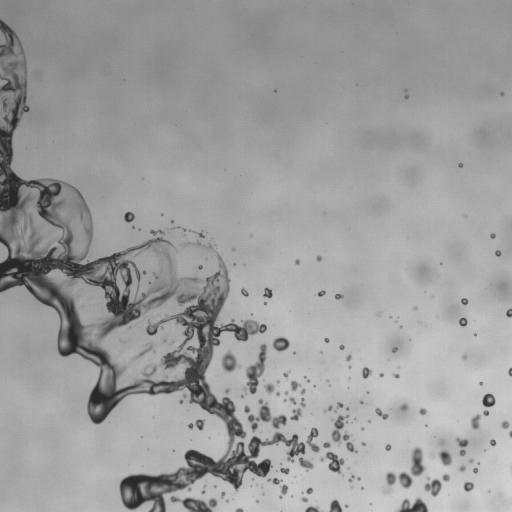droplet: (221, 349, 242, 373), (423, 475, 442, 497), (455, 436, 469, 456), (272, 336, 289, 352), (262, 383, 281, 396), (438, 449, 452, 466), (187, 419, 205, 430), (470, 413, 481, 430), (482, 393, 495, 407), (124, 211, 135, 222), (290, 380, 301, 391), (18, 113, 29, 124), (10, 132, 21, 143), (8, 161, 19, 172), (16, 168, 27, 179), (490, 238, 501, 249), (173, 253, 184, 264), (175, 267, 186, 278), (228, 287, 239, 298), (458, 305, 469, 316), (220, 330, 231, 341), (262, 332, 273, 343), (211, 346, 222, 357), (265, 346, 276, 357), (202, 369, 213, 380), (263, 393, 274, 404), (246, 394, 257, 405), (407, 404, 418, 415), (197, 408, 208, 419), (233, 408, 244, 419), (208, 413, 219, 424), (215, 418, 226, 429), (258, 420, 269, 431), (280, 425, 291, 436), (462, 427, 473, 438), (277, 442, 288, 453), (448, 445, 459, 456), (335, 446, 346, 457), (302, 448, 313, 459), (288, 460, 299, 471), (401, 462, 412, 473), (164, 463, 175, 474), (435, 463, 446, 474), (445, 463, 456, 474), (147, 465, 158, 476), (242, 469, 253, 480), (462, 470, 473, 481), (411, 474, 422, 485), (176, 488, 187, 499), (189, 488, 200, 499), (421, 492, 432, 503), (362, 366, 372, 378), (283, 396, 296, 405), (262, 287, 272, 298), (463, 481, 474, 491), (441, 472, 450, 482), (319, 503, 330, 511), (500, 420, 509, 429), (53, 172, 62, 181), (189, 245, 198, 254), (85, 253, 94, 262), (324, 291, 333, 300), (213, 318, 222, 327), (329, 339, 338, 348), (249, 355, 258, 364), (255, 383, 264, 392), (82, 388, 91, 397), (291, 389, 300, 398), (250, 407, 259, 416), (108, 408, 117, 417), (269, 408, 278, 417), (478, 415, 487, 424), (241, 421, 250, 430), (277, 424, 286, 433), (297, 433, 306, 442), (197, 445, 206, 454), (318, 446, 327, 455), (253, 455, 262, 464), (458, 455, 467, 464), (441, 464, 450, 473), (131, 466, 140, 475), (266, 469, 275, 478), (203, 471, 212, 480), (254, 474, 263, 483), (194, 477, 203, 486), (392, 479, 401, 488), (223, 481, 232, 490), (252, 487, 261, 496), (161, 492, 170, 501), (200, 493, 209, 502), (143, 499, 152, 508), (459, 316, 467, 326), (399, 403, 409, 411), (241, 286, 248, 297), (283, 370, 290, 381), (348, 472, 355, 483), (316, 290, 326, 297), (135, 505, 146, 511), (345, 352, 352, 361), (418, 408, 427, 415), (280, 467, 289, 474), (489, 438, 496, 446), (323, 441, 331, 448), (384, 443, 391, 451), (458, 464, 466, 471), (0, 32, 5, 43), (0, 209, 5, 220), (0, 251, 5, 262), (334, 293, 343, 299), (505, 308, 511, 317), (461, 298, 468, 305), (428, 452, 435, 459), (306, 487, 313, 494), (4, 18, 11, 25), (85, 199, 92, 206), (91, 227, 98, 234), (200, 237, 207, 244), (79, 258, 86, 265), (225, 263, 232, 270), (206, 269, 213, 276), (18, 284, 25, 291), (7, 286, 14, 293), (222, 299, 229, 306), (243, 313, 250, 320), (285, 346, 292, 353), (231, 349, 238, 356), (340, 349, 347, 356), (69, 352, 76, 359), (234, 356, 241, 363), (92, 365, 99, 372), (343, 368, 350, 375), (287, 373, 294, 380), (295, 376, 302, 383), (87, 383, 94, 390), (284, 383, 291, 390), (159, 392, 166, 399), (300, 407, 307, 414), (338, 408, 345, 415), (285, 410, 292, 417), (84, 416, 91, 423), (101, 418, 108, 425), (256, 419, 263, 426), (464, 419, 471, 426), (338, 427, 345, 434), (253, 430, 260, 437), (284, 432, 291, 439), (325, 435, 332, 442), (311, 437, 318, 444), (339, 439, 346, 446), (277, 440, 284, 447), (440, 444, 447, 451), (304, 445, 311, 452), (292, 454, 299, 461), (212, 455, 219, 462), (434, 455, 441, 462), (420, 458, 427, 465), (181, 461, 188, 468), (466, 463, 473, 470), (393, 469, 400, 476), (276, 471, 283, 478), (410, 474, 417, 481), (380, 476, 387, 483), (113, 480, 120, 487), (274, 484, 281, 491), (213, 493, 220, 500), (215, 496, 222, 503), (408, 498, 415, 505), (302, 501, 309, 508), (394, 501, 401, 508), (391, 372, 399, 378), (300, 496, 308, 502), (210, 506, 219, 511), (494, 250, 501, 256), (391, 347, 398, 353), (316, 255, 322, 261), (376, 311, 382, 317), (461, 354, 467, 360), (483, 409, 489, 415), (324, 336, 329, 343), (300, 388, 305, 395), (220, 491, 225, 498), (235, 507, 243, 511), (490, 233, 495, 239), (294, 259, 299, 265), (339, 344, 345, 349), (468, 458, 474, 463), (473, 467, 478, 473), (507, 423, 511, 430), (124, 507, 131, 511), (182, 507, 189, 511), (340, 507, 347, 511), (458, 162, 463, 167), (283, 390, 288, 395), (20, 40, 25, 45), (23, 48, 28, 53), (25, 62, 30, 67), (26, 68, 31, 73), (400, 91, 405, 96), (24, 100, 29, 105), (31, 175, 36, 180), (69, 180, 74, 185), (80, 190, 85, 195), (88, 206, 93, 211), (128, 207, 133, 212), (120, 210, 125, 215), (119, 214, 124, 219), (91, 217, 96, 222), (129, 220, 134, 225), (172, 221, 177, 226), (489, 228, 494, 233), (155, 232, 160, 237), (149, 234, 154, 239), (162, 234, 167, 239), (194, 234, 199, 239), (181, 236, 186, 241), (90, 239, 95, 244), (136, 240, 141, 245), (129, 242, 134, 247), (106, 251, 111, 256), (293, 254, 298, 259), (320, 254, 325, 259), (221, 255, 226, 260), (298, 257, 303, 262), (320, 257, 325, 262), (289, 259, 294, 264), (188, 272, 193, 277), (227, 273, 232, 278), (228, 281, 233, 286), (245, 287, 250, 292), (271, 290, 276, 295), (263, 296, 268, 301), (47, 305, 52, 310), (391, 314, 396, 319), (249, 315, 254, 320), (397, 319, 402, 324), (393, 322, 398, 327), (54, 326, 59, 331), (53, 330, 58, 335), (229, 330, 234, 335), (255, 331, 260, 336), (279, 332, 284, 337), (274, 333, 279, 338), (52, 335, 57, 340), (286, 336, 291, 341), (238, 339, 243, 344), (391, 342, 396, 347), (53, 348, 58, 353), (255, 348, 260, 353), (395, 349, 400, 354), (55, 352, 60, 357), (350, 354, 355, 359), (263, 359, 268, 364), (347, 359, 352, 364), (87, 360, 92, 365), (282, 367, 287, 372), (393, 368, 398, 373), (503, 369, 508, 374), (357, 370, 362, 375), (366, 374, 371, 379), (279, 375, 284, 380), (321, 375, 326, 380), (256, 376, 261, 381), (309, 379, 314, 384), (271, 381, 276, 386), (322, 382, 327, 387), (273, 386, 278, 391), (296, 386, 301, 391), (185, 389, 190, 394), (270, 391, 275, 396), (144, 392, 149, 397), (279, 392, 284, 397), (302, 392, 307, 397), (284, 394, 289, 399), (493, 394, 498, 399), (478, 395, 483, 400), (229, 396, 234, 401), (295, 398, 300, 403), (494, 398, 499, 403), (285, 399, 290, 404), (397, 400, 402, 405), (331, 402, 336, 407), (342, 402, 347, 407), (266, 403, 271, 408), (323, 403, 328, 408), (420, 403, 425, 408), (292, 404, 297, 409), (485, 405, 490, 410), (414, 407, 419, 412), (404, 408, 409, 413), (381, 409, 386, 414), (471, 411, 476, 416), (417, 413, 422, 418), (420, 414, 425, 419), (332, 415, 337, 420), (377, 415, 382, 420), (347, 416, 352, 421), (500, 416, 505, 421), (285, 417, 290, 422), (383, 418, 388, 423), (496, 421, 501, 426), (278, 422, 283, 427), (363, 422, 368, 427), (202, 424, 207, 429), (192, 425, 197, 430), (330, 425, 335, 430), (305, 430, 310, 435), (267, 435, 272, 440), (259, 436, 264, 441), (296, 437, 301, 442), (347, 437, 352, 442), (270, 443, 275, 448), (380, 443, 385, 448), (352, 444, 357, 449), (456, 445, 461, 450), (463, 445, 468, 450), (324, 447, 329, 452), (181, 449, 186, 454), (473, 457, 478, 462), (326, 458, 331, 463), (471, 462, 476, 467), (281, 463, 286, 468), (339, 464, 344, 469), (300, 466, 305, 471), (332, 470, 337, 475), (448, 473, 453, 478), (352, 477, 357, 482), (438, 477, 443, 482), (466, 477, 471, 482), (278, 481, 283, 486), (345, 481, 350, 486), (472, 481, 477, 486), (459, 482, 464, 487), (238, 484, 243, 489), (459, 486, 464, 491), (257, 488, 262, 493), (286, 488, 291, 493), (467, 489, 472, 494), (437, 490, 442, 495), (303, 492, 308, 497), (223, 493, 228, 498), (282, 493, 287, 498), (256, 494, 261, 499), (235, 503, 240, 508), (339, 503, 344, 508), (0, 67, 3, 74), (0, 79, 3, 86), (0, 241, 3, 248), (500, 91, 504, 96), (231, 247, 236, 251), (412, 306, 417, 310), (379, 372, 383, 377), (347, 376, 351, 381), (478, 381, 483, 385), (345, 406, 350, 410), (361, 442, 366, 446), (357, 476, 361, 481), (249, 233, 253, 237), (430, 294, 434, 298), (263, 301, 267, 305), (398, 324, 402, 328), (319, 350, 323, 354), (367, 419, 371, 423), (360, 486, 364, 490), (225, 499, 229, 503), (255, 499, 259, 503), (348, 364, 351, 369), (353, 417, 358, 420), (508, 316, 511, 321), (242, 508, 247, 511), (300, 508, 305, 511), (463, 214, 467, 217), (170, 220, 174, 223), (132, 225, 135, 229), (360, 427, 364, 430), (251, 477, 255, 480), (254, 483, 258, 486), (213, 485, 217, 488), (350, 485, 353, 489), (290, 494, 293, 498), (344, 504, 348, 507), (0, 101, 2, 106), (273, 89, 276, 92), (141, 177, 144, 180), (138, 228, 141, 231), (473, 333, 476, 336), (292, 351, 295, 354), (366, 391, 369, 394), (172, 449, 175, 452), (347, 466, 350, 469), (369, 502, 372, 505), (273, 86, 276, 89), (276, 88, 279, 91), (500, 88, 503, 91), (272, 91, 275, 94), (405, 91, 408, 94), (503, 91, 506, 94), (500, 95, 503, 98), (407, 96, 410, 99), (404, 98, 407, 101), (28, 108, 31, 111), (456, 160, 459, 163), (460, 160, 463, 163), (462, 164, 465, 167), (457, 166, 460, 169), (75, 185, 78, 188), (162, 211, 165, 214), (157, 212, 160, 215), (160, 215, 163, 218), (170, 216, 173, 219), (183, 225, 186, 228), (134, 226, 137, 229), (160, 227, 163, 230), (178, 227, 181, 230), (191, 227, 194, 230), (153, 228, 156, 231), (197, 229, 200, 232), (184, 230, 187, 233), (202, 232, 205, 235), (488, 237, 491, 240), (492, 237, 495, 240), (169, 239, 172, 242), (210, 241, 213, 244), (215, 248, 218, 251), (492, 249, 495, 252), (500, 250, 503, 253), (492, 253, 495, 256), (495, 255, 498, 258), (313, 256, 316, 259), (440, 259, 443, 262), (199, 261, 202, 264), (436, 261, 439, 264), (235, 262, 238, 265), (295, 264, 298, 267), (439, 264, 442, 267), (196, 268, 199, 271), (317, 288, 320, 291), (261, 290, 264, 293), (336, 290, 339, 293), (314, 291, 317, 294), (332, 292, 335, 295), (240, 293, 243, 296), (247, 294, 250, 297), (320, 295, 323, 298), (331, 295, 334, 298), (460, 295, 463, 298), (464, 295, 467, 298), (338, 297, 341, 300), (467, 300, 470, 303), (459, 302, 462, 305), (465, 303, 468, 306), (262, 304, 265, 307), (249, 309, 252, 312), (503, 310, 506, 313), (389, 312, 392, 315), (460, 314, 463, 317), (504, 314, 507, 317), (466, 320, 469, 323), (264, 322, 267, 325), (456, 322, 459, 325), (402, 325, 405, 328), (460, 325, 463, 328), (463, 325, 466, 328), (264, 329, 267, 332), (470, 332, 473, 335), (476, 333, 479, 336), (324, 334, 327, 337), (328, 337, 331, 340), (322, 340, 325, 343), (342, 342, 345, 345), (336, 346, 339, 349), (388, 348, 391, 351), (295, 351, 298, 354), (322, 351, 325, 354), (390, 351, 393, 354), (460, 352, 463, 355), (318, 353, 321, 356), (466, 356, 469, 359), (345, 366, 348, 369), (367, 366, 370, 369), (303, 372, 306, 375), (383, 373, 386, 376), (305, 376, 308, 379), (327, 376, 330, 379), (378, 376, 381, 379), (392, 376, 395, 379), (395, 377, 398, 380), (349, 378, 352, 381), (479, 378, 482, 381), (328, 380, 331, 383), (476, 382, 479, 385), (345, 383, 348, 386), (314, 386, 317, 389), (345, 388, 348, 391), (348, 388, 351, 391), (366, 388, 369, 391), (487, 390, 490, 393), (241, 391, 244, 394), (363, 391, 366, 394), (368, 392, 371, 395), (491, 392, 494, 395), (300, 394, 303, 397), (362, 399, 365, 402), (339, 400, 342, 403), (176, 401, 179, 404), (361, 403, 364, 406), (348, 406, 351, 409), (425, 411, 428, 414), (355, 415, 358, 418), (352, 419, 355, 422), (421, 423, 424, 426), (427, 423, 430, 426), (185, 425, 188, 428), (424, 426, 427, 429), (316, 427, 319, 430), (358, 428, 361, 431), (363, 428, 366, 431), (317, 431, 320, 434), (362, 439, 365, 442), (495, 440, 498, 443), (385, 441, 388, 444), (487, 442, 490, 445), (490, 445, 493, 448), (390, 446, 393, 449), (480, 448, 483, 451), (169, 449, 172, 452), (351, 451, 354, 454), (479, 461, 482, 464), (288, 469, 291, 472), (477, 469, 480, 472), (360, 476, 363, 479), (251, 485, 254, 488), (363, 485, 366, 488), (311, 486, 314, 489), (203, 487, 206, 490), (278, 498, 281, 501), (252, 499, 255, 502), (368, 499, 371, 502), (258, 500, 261, 503), (368, 505, 371, 508), (160, 213, 163, 215), (233, 263, 235, 266), (440, 262, 442, 265), (250, 313, 253, 315), (389, 316, 392, 318), (394, 320, 397, 322), (409, 338, 411, 341), (397, 366, 400, 368), (313, 385, 316, 387), (259, 431, 262, 433), (140, 436, 143, 438), (208, 436, 210, 439), (484, 448, 486, 451), (280, 462, 282, 465), (294, 475, 296, 478), (301, 491, 303, 494), (262, 492, 264, 495), (509, 305, 511, 308), (243, 264, 245, 266), (424, 290, 426, 292), (262, 379, 264, 381), (347, 387, 349, 389), (350, 421, 352, 423), (425, 424, 427, 426), (477, 462, 479, 464), (250, 485, 252, 487), (488, 490, 490, 492), (280, 510, 282, 511), (371, 510, 372, 511)
ligament: (382, 446, 426, 495), (240, 343, 267, 398), (331, 414, 358, 453), (170, 495, 217, 511), (319, 451, 344, 477), (393, 497, 428, 511), (305, 499, 342, 511), (170, 226, 205, 238), (290, 397, 305, 421), (323, 402, 343, 413), (374, 407, 388, 419), (119, 338, 130, 343), (404, 89, 409, 99), (201, 484, 206, 494), (303, 376, 310, 383), (325, 379, 331, 387), (275, 379, 279, 387), (508, 367, 511, 377), (359, 400, 366, 404), (508, 430, 511, 438), (509, 463, 511, 473), (261, 484, 263, 488)
